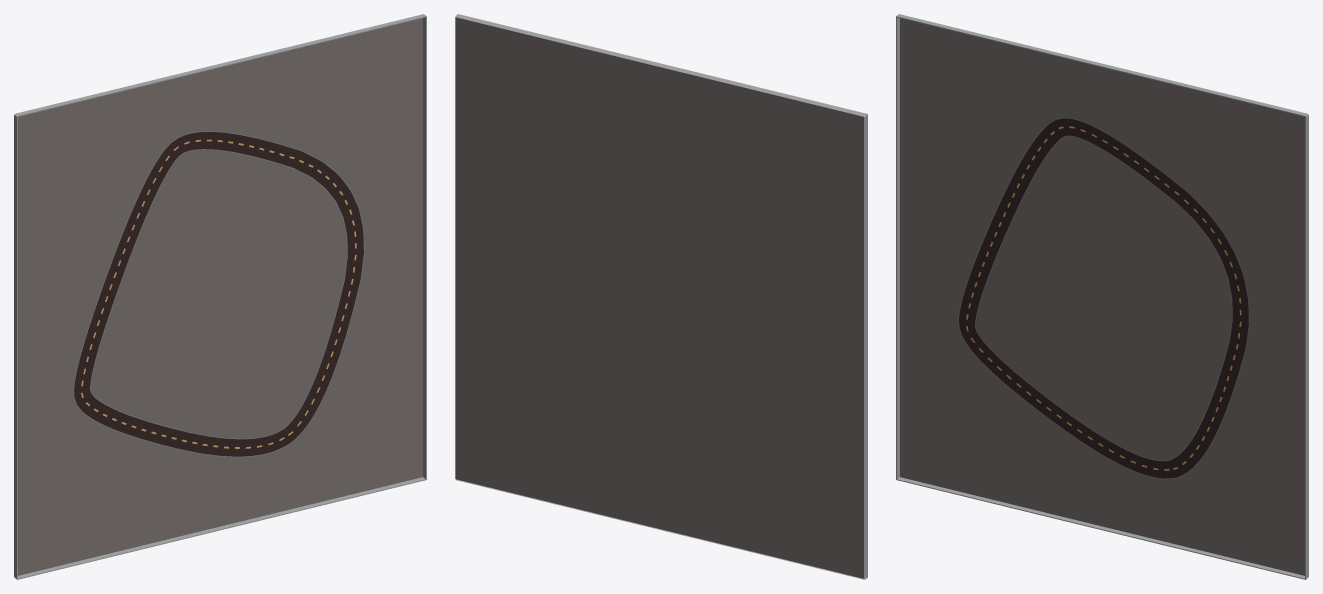
File: track.obj
3 renders of one model, left to right at view 1: azimuth 30°, elevation 25°; view 2: azimuth 150°, elevation 25°; view 3: azimuth 330°, elevation 25°, orthographic.
Size of the model in its own units: 23.61 by 25.54 by 0.3.
5 materials, 5 textured.
